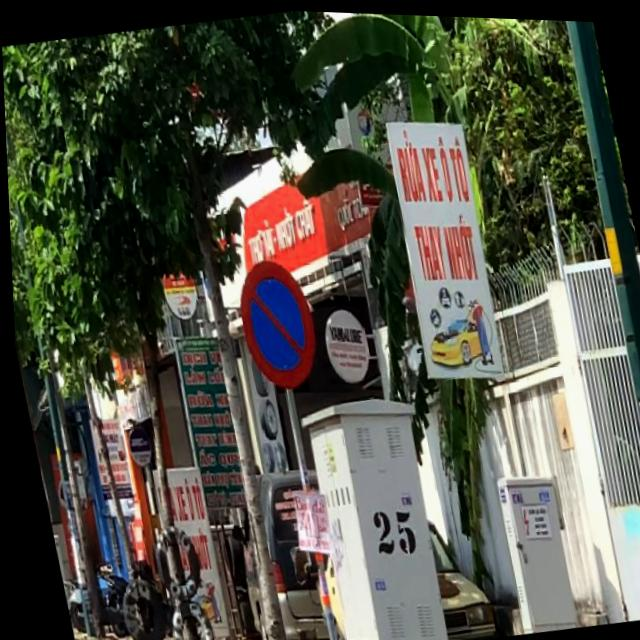Cam do xe: (226, 250, 324, 393)
